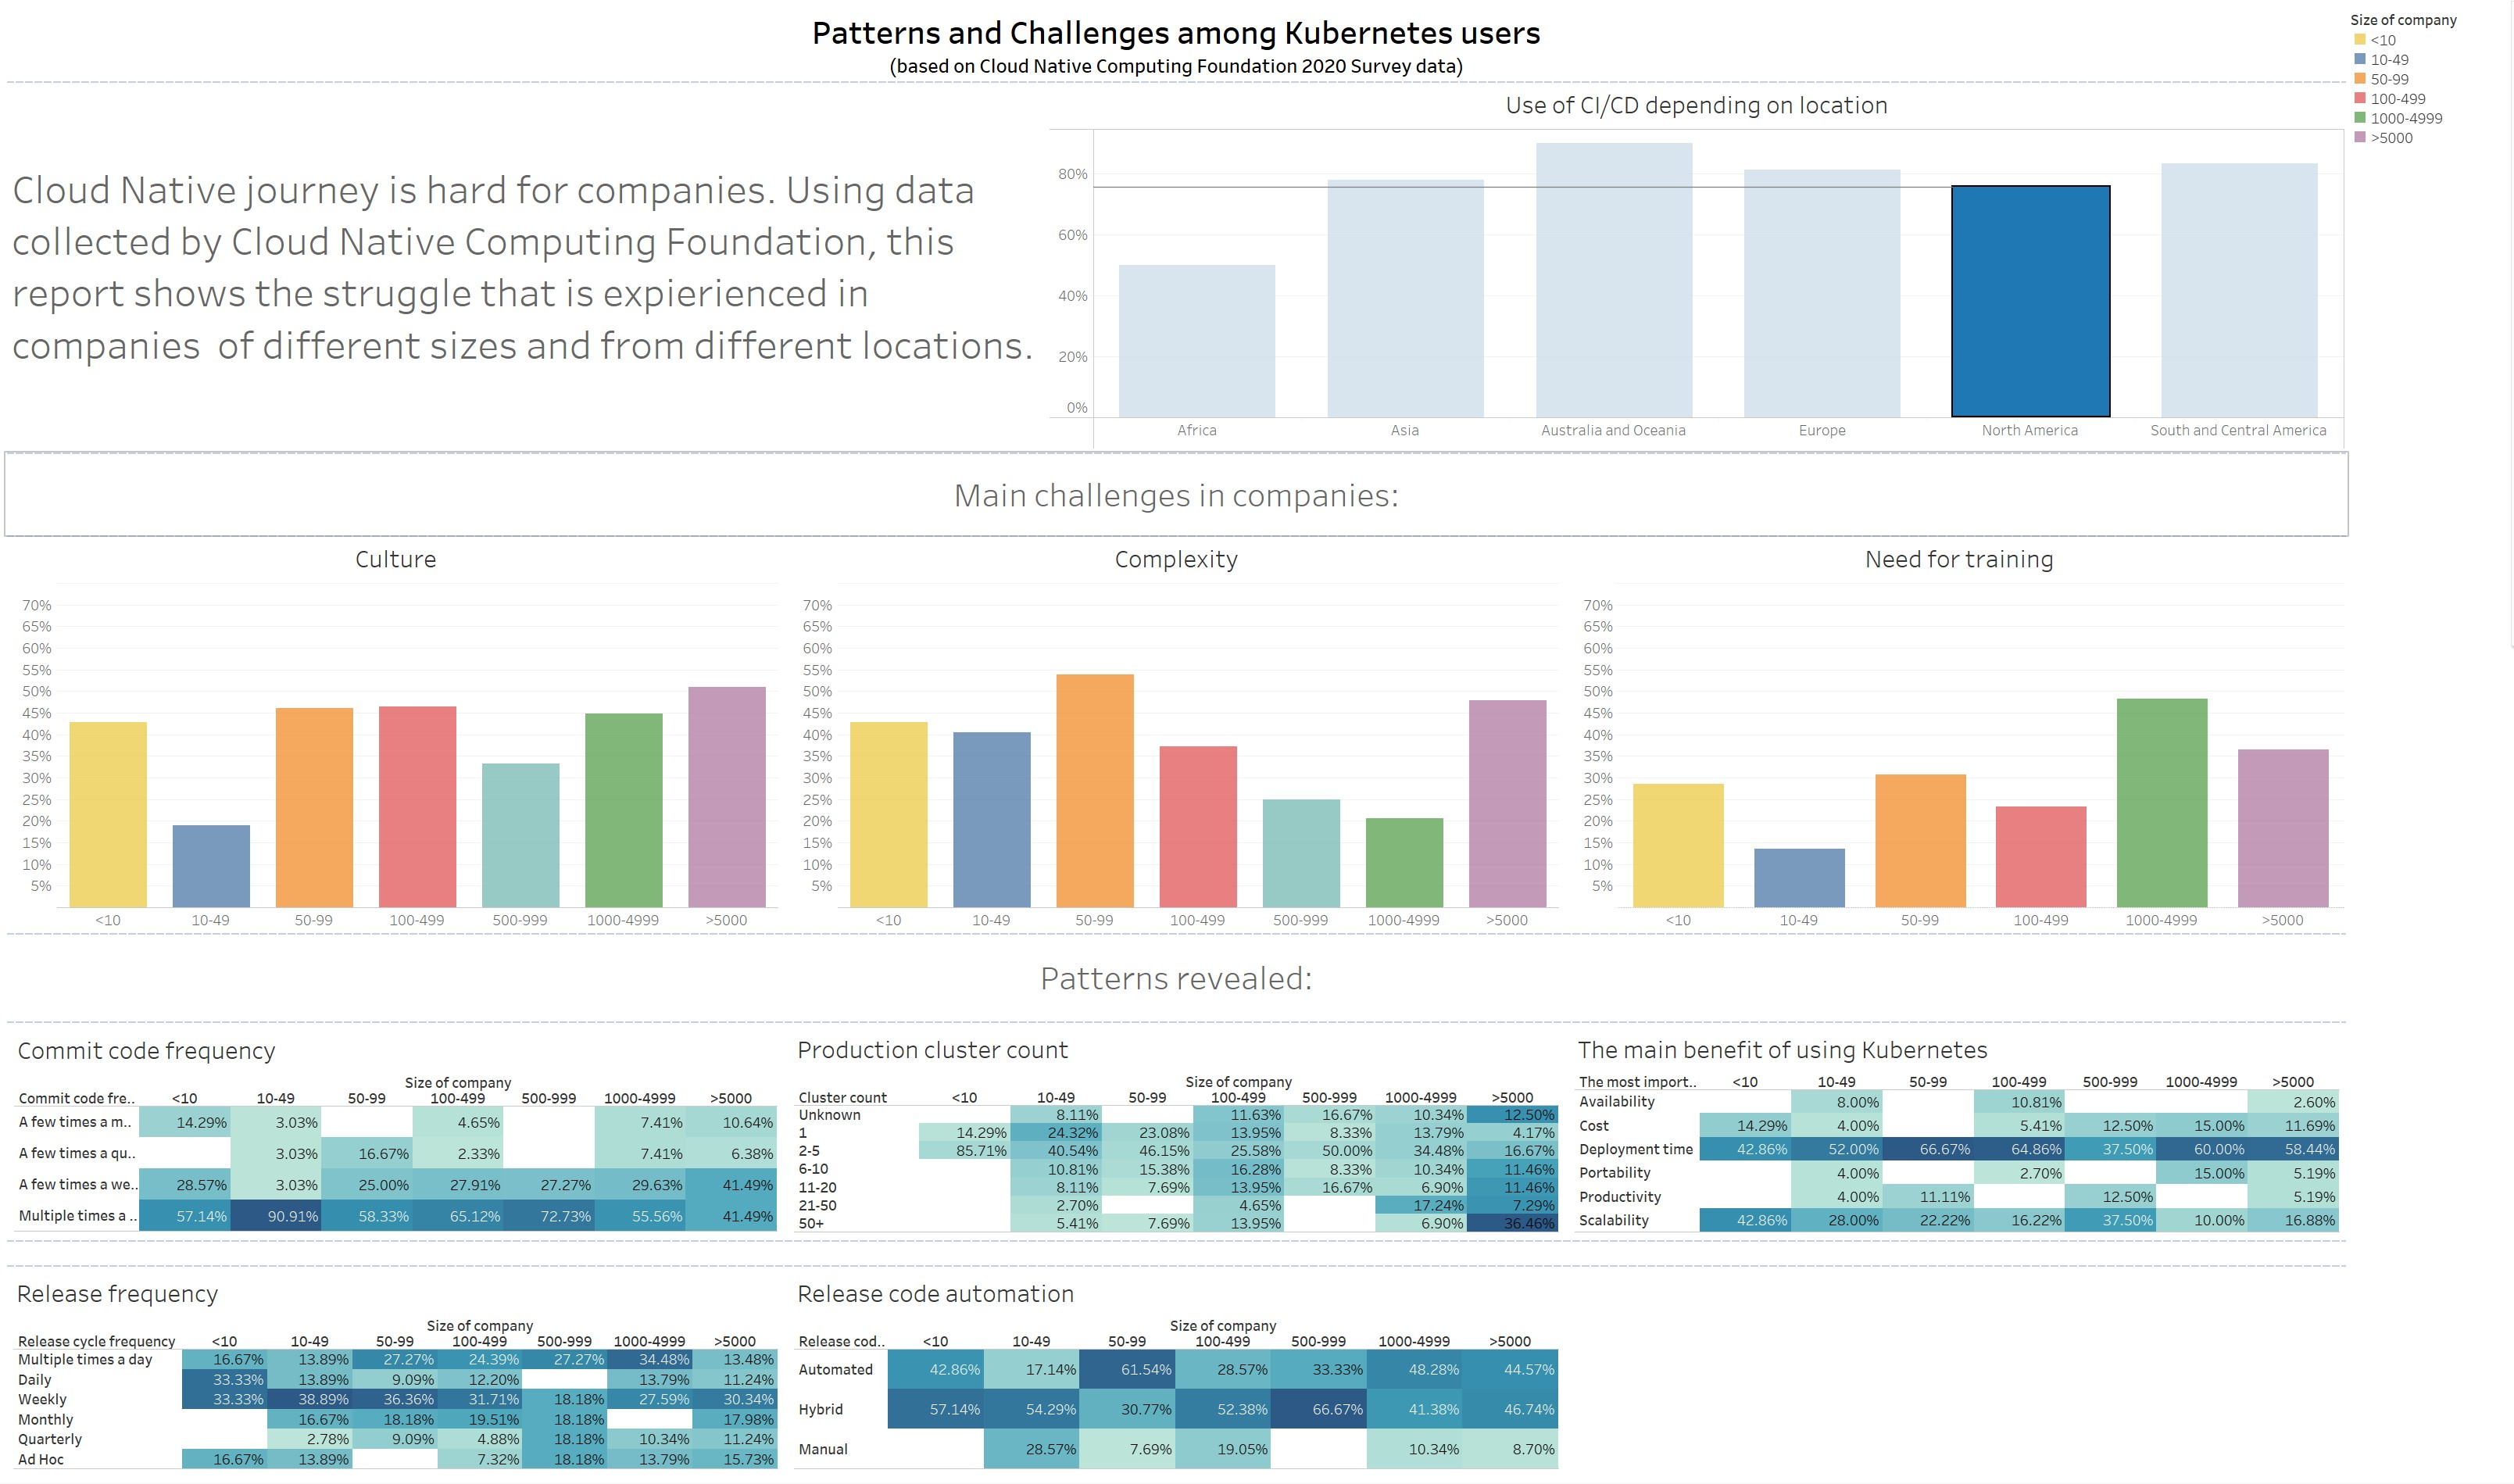

Layout of this report page (visuals, bound fields, positions):
{"tool":"tableau","page":{"name":"Patterns and Challenges among Kubernetes users","canvas":[1000,1000],"units":"permille","ordinal":0},"visuals":[{"type":"title","box":[2.3,4.2,890.8,50.6]},{"type":"legend","title":"Need for training","param":"[federated.0prfw8p0pomopj1g26lqo073t2kk].[none:Size of company:nk]","box":[893,4.2,104.7,96.9]},{"type":"text","box":[2.3,54.8,378,250.3]},{"type":"worksheet","title":"Use of CI/CD depending on location","mark":"Automatic","cols":["Use of CI/CD","Geographic Location"],"box":[380.2,54.8,512.7,250.3]},{"type":"text","box":[2.3,305,890.8,55.8]},{"type":"worksheet","title":"Culture","mark":"Automatic","rows":["Culture as a challenge"],"cols":["Size of company"],"box":[2.3,360.9,297.1,268.2]},{"type":"worksheet","title":"Complexity","mark":"Automatic","cols":["Complexity as a challenge","Size of company"],"box":[299.4,360.9,296.8,268.2]},{"type":"worksheet","title":"Need for training","mark":"Automatic","cols":["Lack of training as a challenge","Size of company"],"box":[596.2,360.9,296.8,268.2]},{"type":"text","box":[2.3,629.1,890.8,59.5]},{"type":"worksheet","title":"Commit code frequency","mark":"Square","rows":["Commit code frequency"],"cols":["Size of company"],"box":[2.3,688.6,297.1,147.5]},{"type":"worksheet","title":"Production cluster count","mark":"Square","rows":["Number of production clusters"],"cols":["Size of company"],"box":[299.4,688.6,296.8,147.5]},{"type":"worksheet","title":"The main benefit of using Kubernetes","mark":"Square","rows":["The most important benefit of using K8s"],"cols":["Size of company"],"box":[596.2,688.6,296.8,147.5]},{"type":"worksheet","title":"Release frequency","mark":"Square","rows":["Release cycle frequency"],"cols":["Size of company"],"box":[2.3,853,297.1,142.8]},{"type":"worksheet","title":"Release code automation","mark":"Square","rows":["Release code automation"],"cols":["Size of company"],"box":[299.4,853,296.8,142.8]}]}

Visuals, with their boxes on the dashboard's canvas, which has no fixed pixel size, in thousandths of its width and height (x1, y1, x2, y2). These are canvas units, not pixel positions in the 2514x1484 screenshot, which may show the page scaled, cropped or inside an application window:
title: 2:4:893:55
"Need for training" legend: 893:4:998:101
text: 2:55:380:305
"Use of CI/CD depending on location" worksheet: 380:55:893:305
text: 2:305:893:361
"Culture" worksheet: 2:361:299:629
"Complexity" worksheet: 299:361:596:629
"Need for training" worksheet: 596:361:893:629
text: 2:629:893:689
"Commit code frequency" worksheet (Square marks): 2:689:299:836
"Production cluster count" worksheet (Square marks): 299:689:596:836
"The main benefit of using Kubernetes" worksheet (Square marks): 596:689:893:836
"Release frequency" worksheet (Square marks): 2:853:299:996
"Release code automation" worksheet (Square marks): 299:853:596:996
